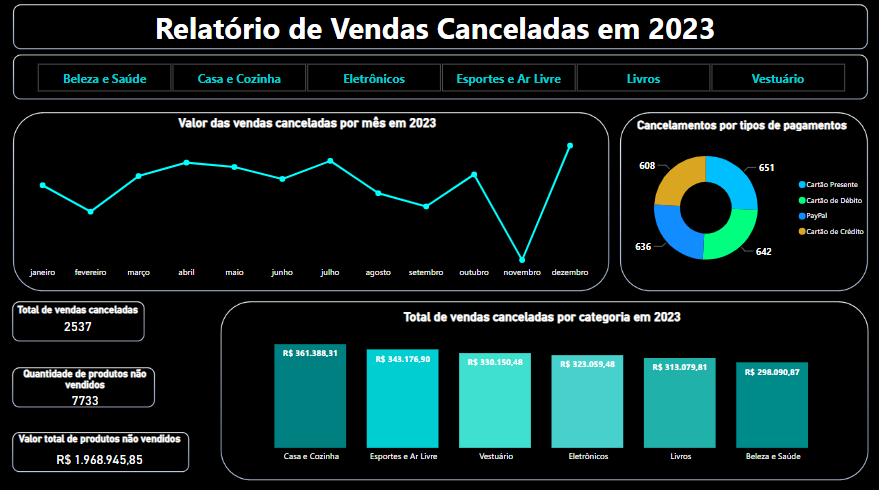

This screenshot's page, from the dashboard's own definition file:
{"tool":"powerbi","page":{"name":"Vendas_Canceladas_2023","canvas":[1280,720],"ordinal":1},"visuals":[{"type":"textbox","box":[29.7,7.1,1208,67.9],"z":0},{"type":"card","title":"Total de vendas canceladas","fields":{"Values":["Count(Vendas_Canceladas.ID do Pedido)"]},"box":[19.3,443.1,188.1,50.2],"z":1000},{"type":"card","title":"Quantidade de produtos não vendidos","fields":{"Values":["Sum(Vendas_Canceladas.Quantidade)"]},"box":[17,536.1,212.2,63.7],"z":2000},{"type":"card","title":"Valor total de produtos não vendidos","fields":{"Values":["Sum(Vendas_Canceladas.Preço Total)"]},"box":[15.5,631.1,257.6,61.8],"z":3000},{"type":"columnChart","title":"Total de vendas canceladas por categoria em 2023","fields":{"Category":["Vendas_Canceladas.Categoria do Produto"],"Y":["Sum(Vendas_Canceladas.Preço Total)"]},"box":[340.9,451.2,896.8,232],"z":4000},{"type":"donutChart","title":"Cancelamentos por tipos de pagamentos","fields":{"Category":["Vendas_Canceladas.Tipo de Pagamento"],"Y":["CountNonNull(Vendas_Canceladas.ID do Pedido)"]},"box":[887.4,172.6,383.8,242.1],"z":5000},{"type":"lineChart","title":"Valor das vendas canceladas por mês em 2023","fields":{"Y":["Sum(Vendas_Canceladas.Preço Total)"],"Category":["Vendas_Canceladas.Data do Pedido.Variation.Hierarquia de datas.Mês"]},"box":[29.7,168.3,836,246.1],"z":6000},{"type":"slicer","fields":{"Values":["Vendas_Canceladas.Categoria do Produto"]},"box":[29.6,87.6,1223.6,54.1],"z":7000}]}

Visuals, with their boxes in screenshot pixels (x1, y1, x2, y2), scaled from the page's 1280x720 canvas onto the 879x490 screenshot:
textbox: {"x1": 20, "y1": 5, "x2": 850, "y2": 51}
"Total de vendas canceladas" card: {"x1": 13, "y1": 302, "x2": 142, "y2": 336}
"Quantidade de produtos não vendidos" card: {"x1": 12, "y1": 365, "x2": 157, "y2": 408}
"Valor total de produtos não vendidos" card: {"x1": 11, "y1": 429, "x2": 188, "y2": 472}
"Total de vendas canceladas por categoria em 2023" columnChart: {"x1": 234, "y1": 307, "x2": 850, "y2": 465}
"Cancelamentos por tipos de pagamentos" donutChart: {"x1": 609, "y1": 117, "x2": 873, "y2": 282}
"Valor das vendas canceladas por mês em 2023" lineChart: {"x1": 20, "y1": 115, "x2": 594, "y2": 282}
slicer - Vendas_Canceladas.Categoria do Produto: {"x1": 20, "y1": 60, "x2": 861, "y2": 96}
